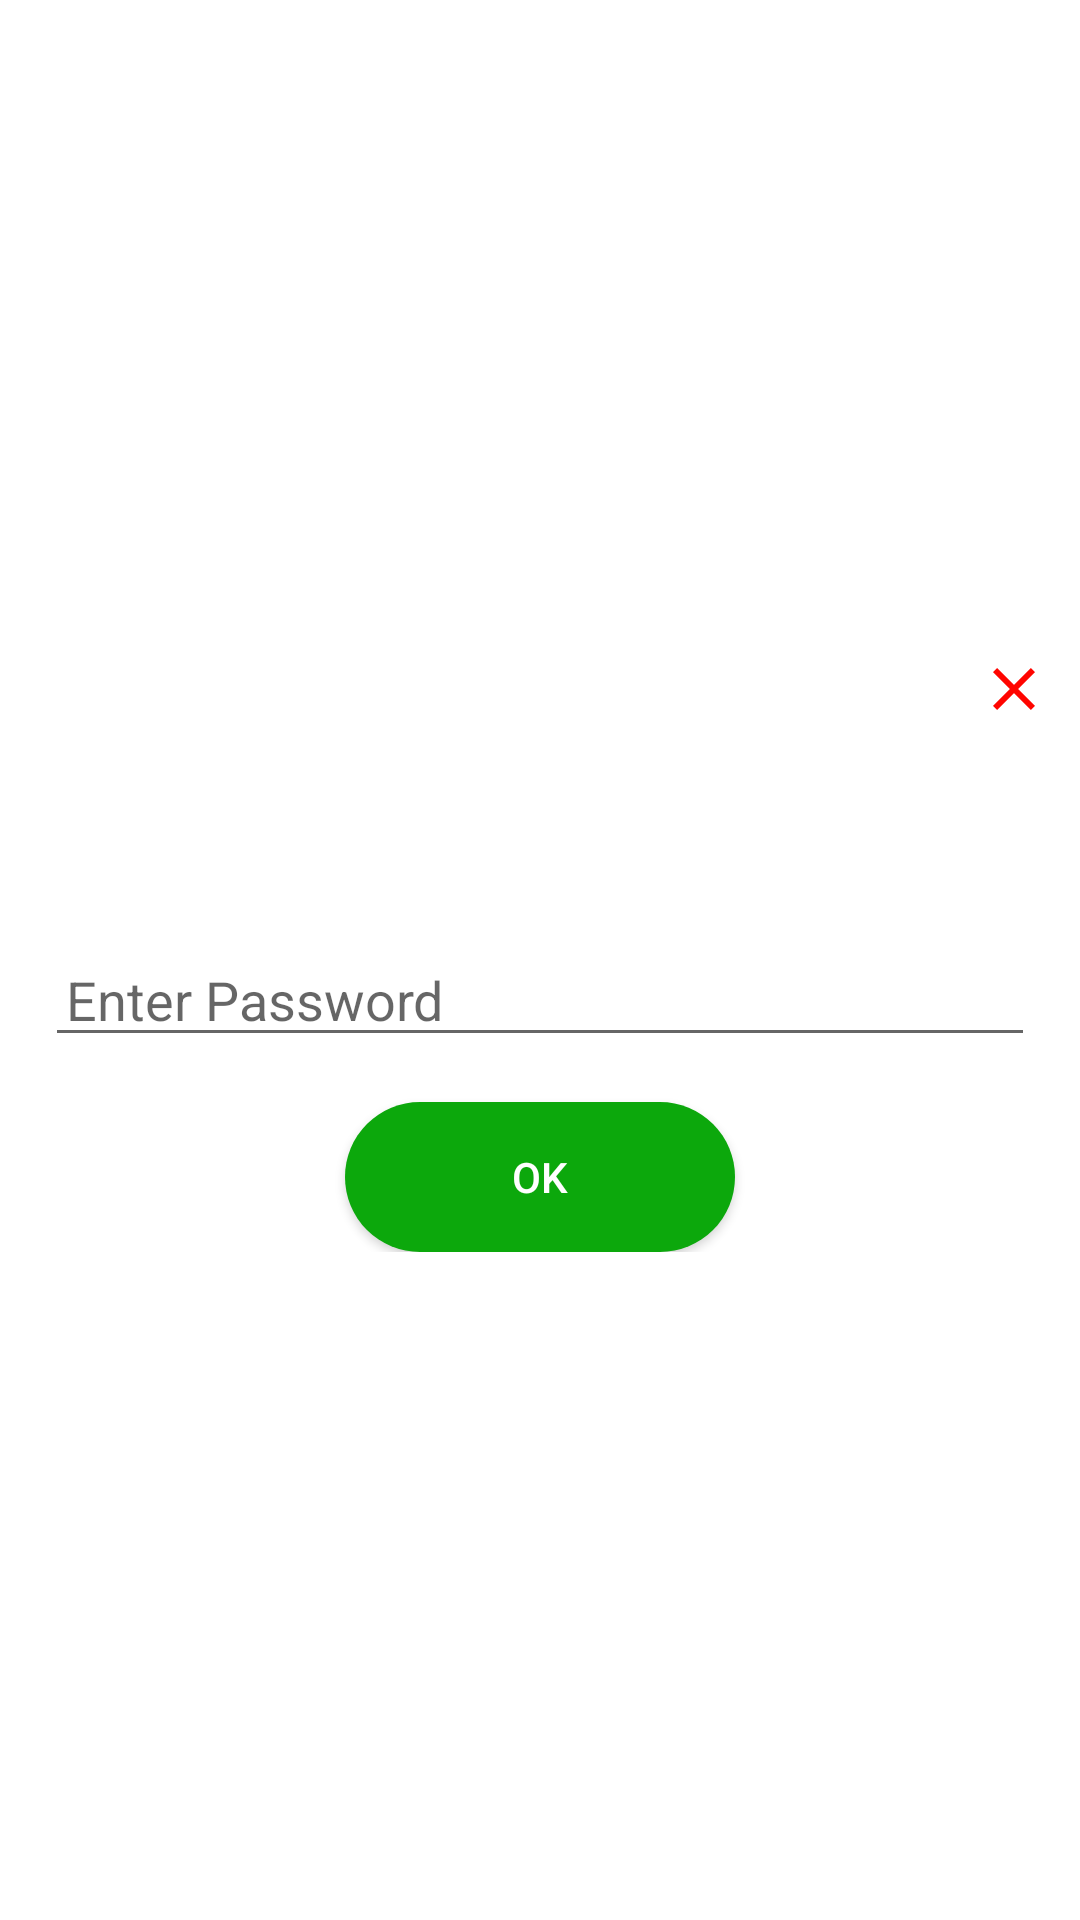

Where to tap for icons on this 1080×1920 app screen, as (x,y):
close: (1014,689)
